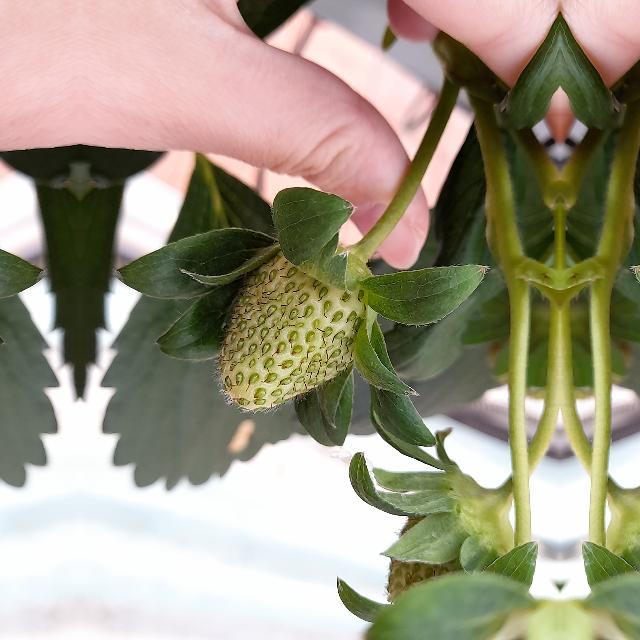Health_25: (210, 241, 378, 415)
